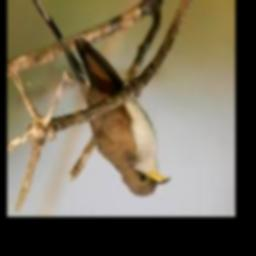Cuckoo: (30, 0, 170, 197)
